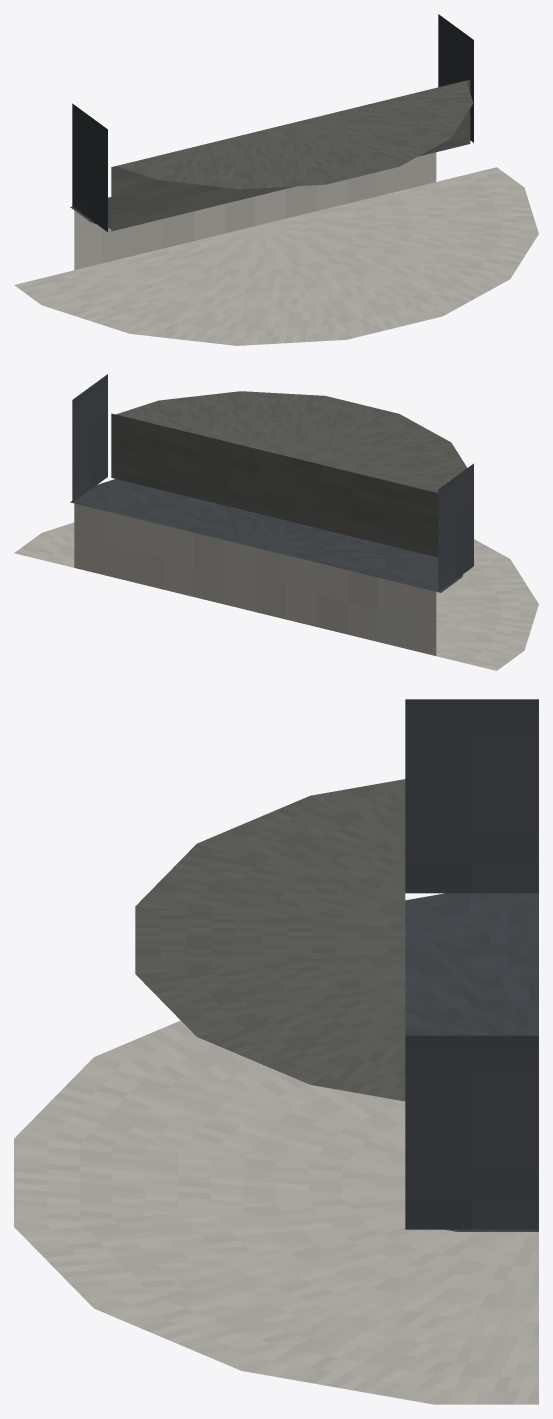
Rendered from mh_base_cut.obj.
The picture shows the model from 3 angles, top to bottom: view 1: azimuth 30°, elevation 25°; view 2: azimuth 150°, elevation 25°; view 3: azimuth 270°, elevation 25°; orthographic projection. The views are drawn at different scales.
Visible parts, largest first — view 1: mh_base_cut; view 2: mh_base_cut; view 3: mh_base_cut.
Part boxes in pixels (x1,y1,x2,y2): mh_base_cut: (14,14,538,345); mh_base_cut: (14,374,538,670); mh_base_cut: (14,699,538,1404).
Size of the model in its own units: 0.9808 by 0.325 by 0.4904.
